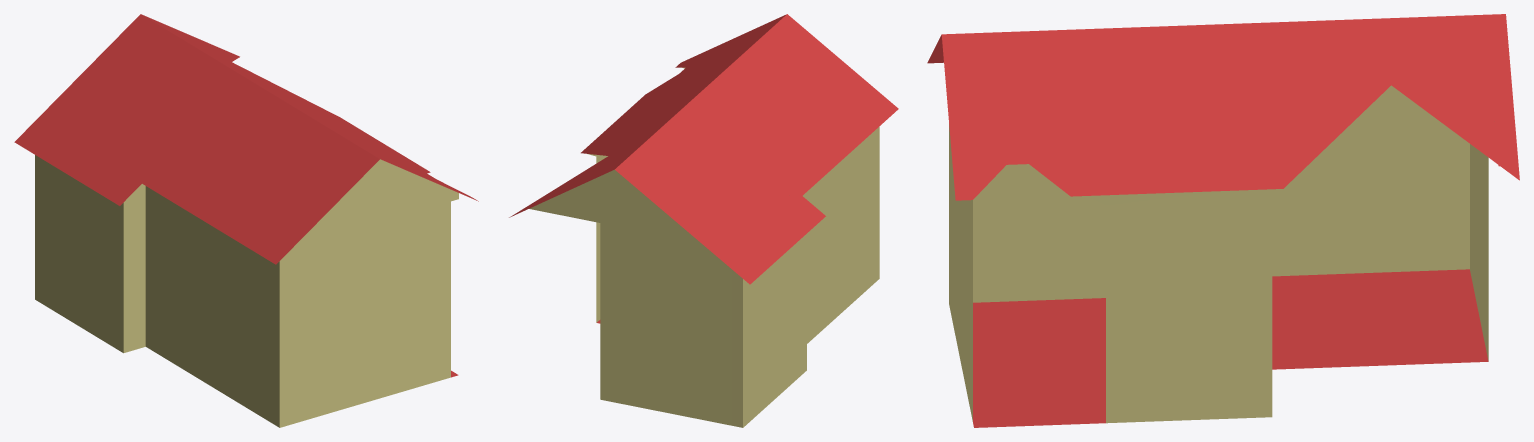
The picture shows the model from 3 angles, left to right: view 1: azimuth 30°, elevation 25°; view 2: azimuth 150°, elevation 25°; view 3: azimuth 270°, elevation 25°; orthographic projection. The views are drawn at different scales.
Size of the model in its own units: 15.54 by 21.98 by 13.66.
